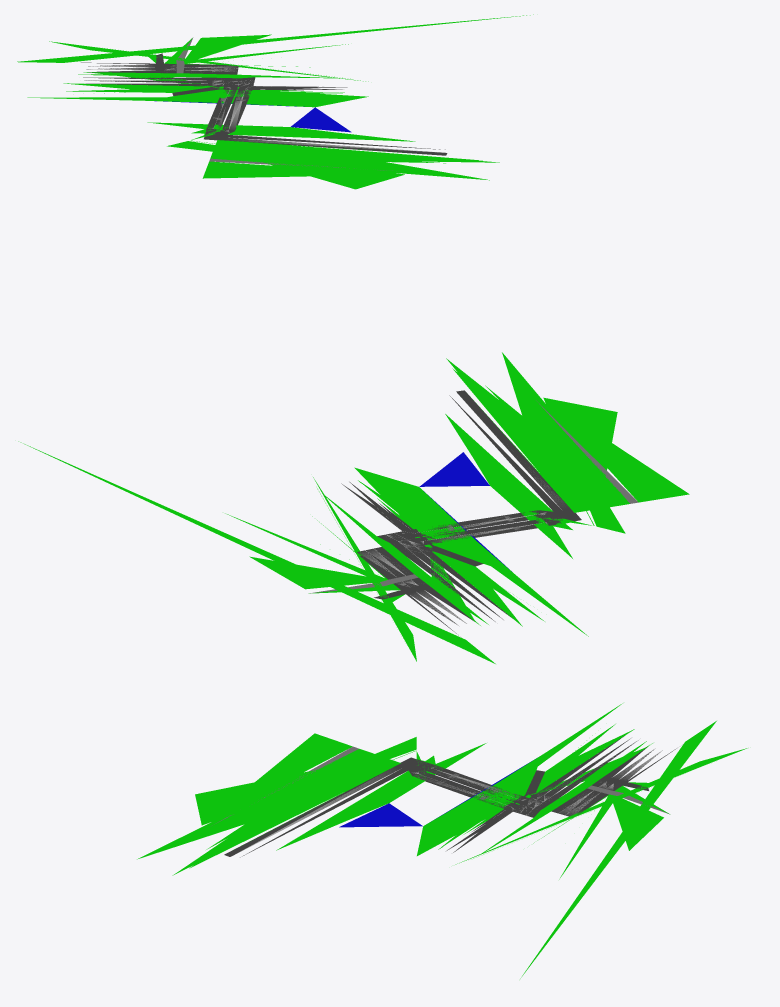
3 renders of one model, top to bottom at view 1: azimuth 30°, elevation 25°; view 2: azimuth 150°, elevation 25°; view 3: azimuth 270°, elevation 25°, orthographic. The views are drawn at different scales.
Bounding box in the file's own units: 292 × 0.201 × 319.
